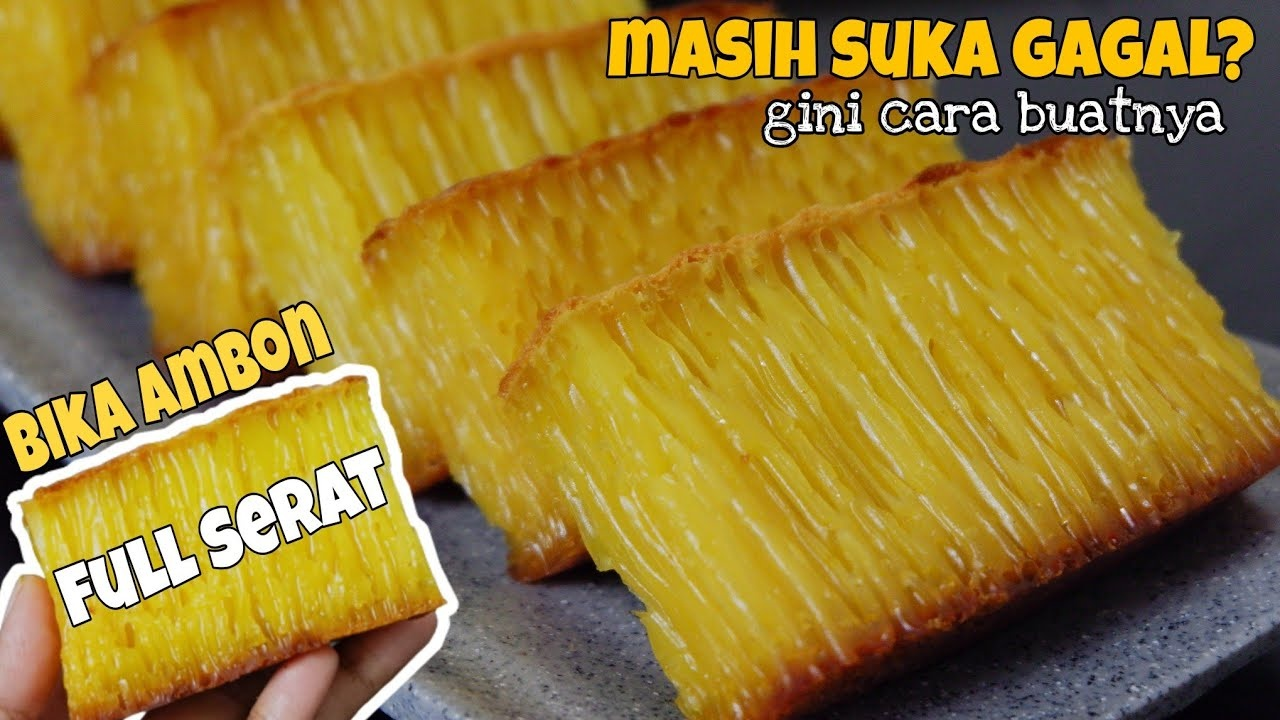bika_ambon: (539, 146, 1262, 685)
